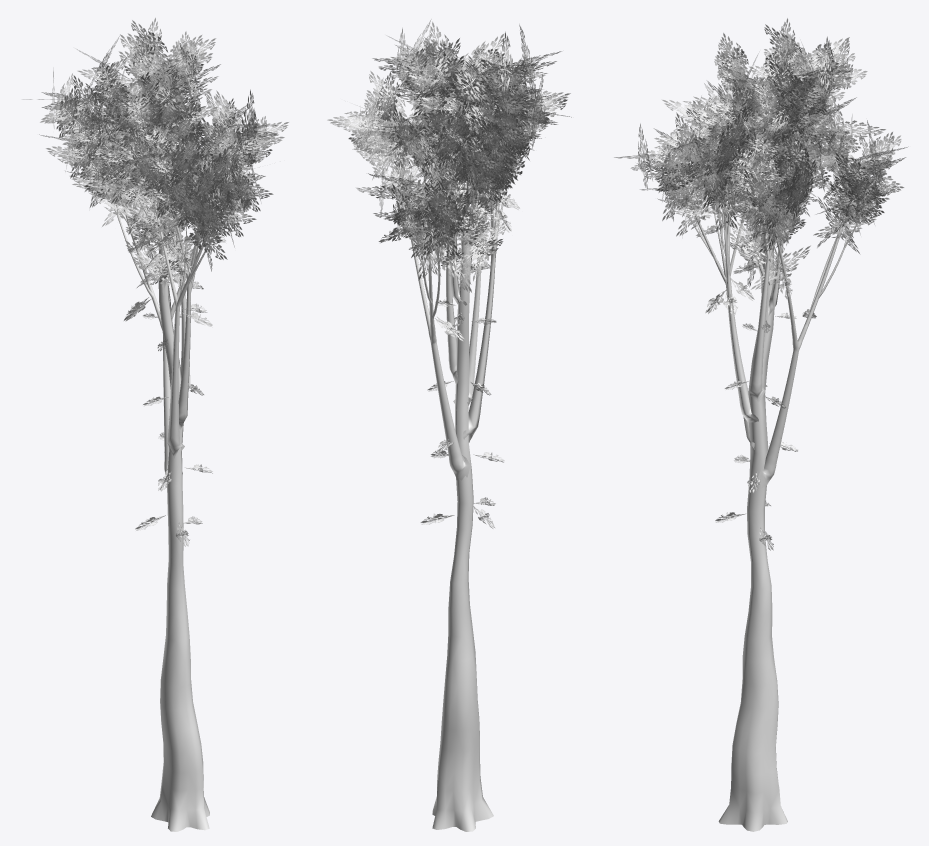
Rendered from TallTree4.glb.
3 views of the same model, side by side, from view 1: azimuth 30°, elevation 25°; view 2: azimuth 150°, elevation 25°; view 3: azimuth 270°, elevation 25° (orthographic). The views are drawn at different scales.
Parts seen in each view (by area): view 1: sprite_0097_1.001, _0, sprite_0094_2.001; view 2: sprite_0097_1.001, _0, sprite_0094_2.001; view 3: sprite_0097_1.001, _0, sprite_0094_2.001.
Part boxes in pixels (x1,y1,x2,y2): sprite_0097_1.001: (23,18,288,287); _0: (79,123,230,831); sprite_0094_2.001: (124,189,225,546); sprite_0097_1.001: (327,19,571,292); _0: (387,107,508,831); sprite_0094_2.001: (378,151,519,528); sprite_0097_1.001: (614,18,907,289); _0: (677,115,867,831); sprite_0094_2.001: (696,197,816,550).
Bounding box in the file's own units: 1.99 × 6.03 × 2.15.
3 materials, 2 textured.
